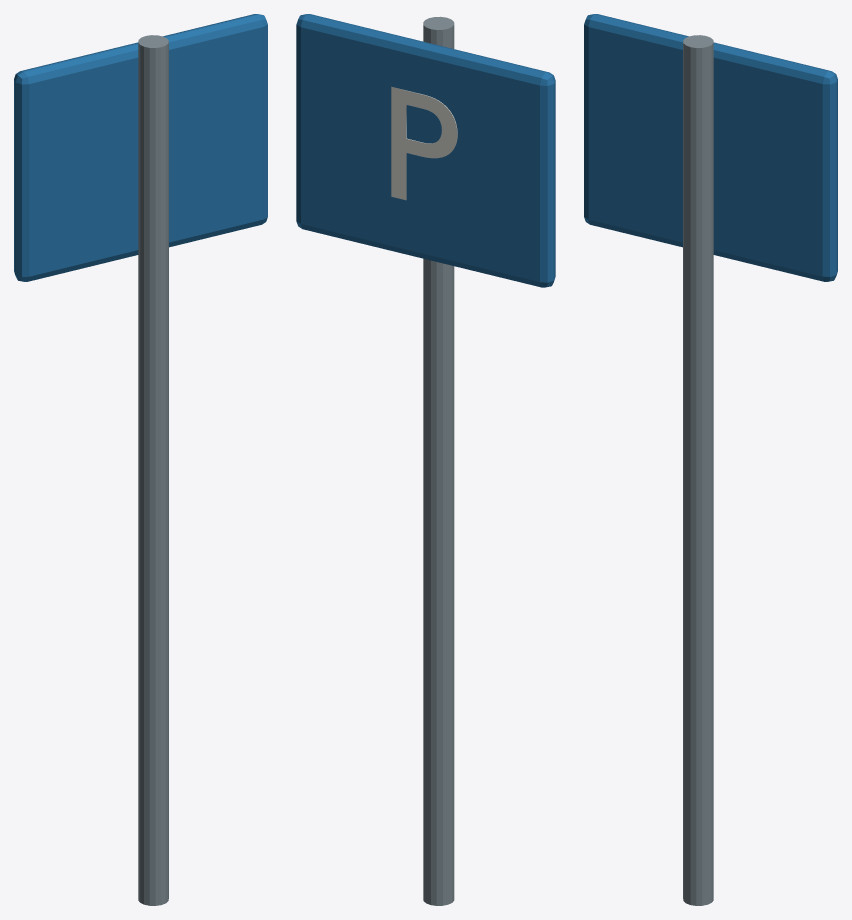
The model's file is SIMUS_Parking_Sign.fbx.
The picture shows the model from 3 angles, left to right: view 1: azimuth 30°, elevation 25°; view 2: azimuth 150°, elevation 25°; view 3: azimuth 330°, elevation 25°; orthographic projection. The views are drawn at different scales.
Visible parts, largest first — view 1: Parking_SignPanel, Parking_SignPole; view 2: Parking_SignPanel, Parking_SignPole, Parking_SignText; view 3: Parking_SignPanel, Parking_SignPole.
Boxes of the visible parts, bbox=[...] form: Parking_SignPanel: bbox=[14, 14, 267, 281]; Parking_SignPole: bbox=[138, 35, 168, 905]; Parking_SignPanel: bbox=[296, 14, 555, 287]; Parking_SignPole: bbox=[423, 16, 454, 905]; Parking_SignText: bbox=[391, 86, 457, 200]; Parking_SignPanel: bbox=[584, 14, 837, 281]; Parking_SignPole: bbox=[683, 35, 713, 905].
Bounding box in the file's own units: 75 × 245 × 13.68.
